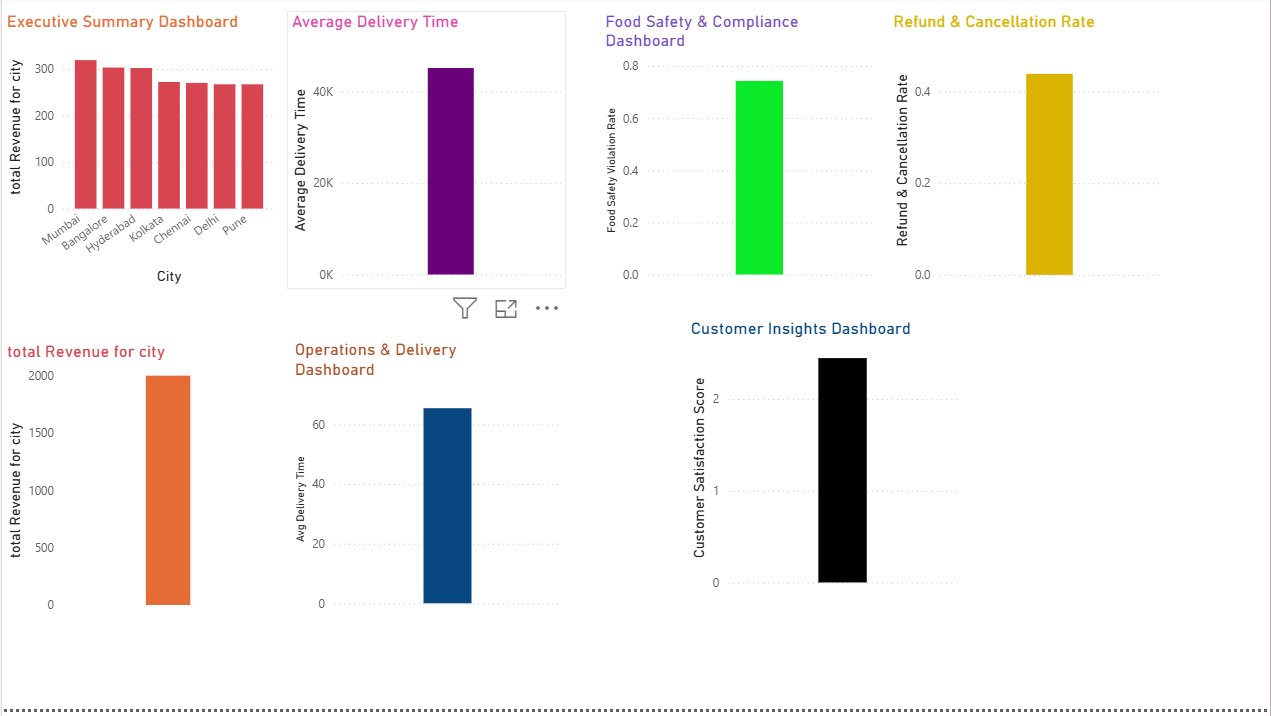

The page's visual inventory and layout, read from the dashboard file:
{"tool":"powerbi","page":{"name":"Page 1","canvas":[1280,720],"ordinal":0},"visuals":[{"type":"clusteredColumnChart","fields":{"Y":["Customers.total Revenue for city"]},"box":[0,348.1,280.1,280.1],"z":0},{"type":"clusteredColumnChart","title":" Executive Summary Dashboard","fields":{"Category":["Customers.City"],"Y":["Customers.total Revenue for city"]},"box":[0,14.6,280.1,280.1],"z":1000},{"type":"clusteredColumnChart","fields":{"Y":["Customers.Average Delivery Time"]},"box":[287.2,15.1,281.6,279.7],"z":2000},{"type":"clusteredColumnChart","title":" Operations & Delivery Dashboard","fields":{"Y":["Customers.Avg Delivery Time"]},"box":[290,347,280,280],"z":3000},{"type":"clusteredColumnChart","title":" Food Safety & Compliance Dashboard","fields":{"Y":["Customers.Food Safety Violation Rate"]},"box":[604.7,15.1,279.7,279.7],"z":4000},{"type":"clusteredColumnChart","title":" Customer Insights Dashboard","fields":{"Y":["Customers.Customer Satisfaction Score"]},"box":[689.8,325.5,280.1,280.1],"z":5000},{"type":"clusteredColumnChart","fields":{"Y":["Customers.Refund & Cancellation Rate"]},"box":[895,15,280,280],"z":6000}]}

Visuals, with their boxes in screenshot pixels (x1, y1, x2, y2), scaled from the page's 1280x720 canvas onto the 1271x716 screenshot:
clusteredColumnChart - Customers.total Revenue for city: x1=0 y1=346 x2=278 y2=625
" Executive Summary Dashboard" clusteredColumnChart: x1=0 y1=15 x2=278 y2=293
clusteredColumnChart - Customers.Average Delivery Time: x1=285 y1=15 x2=565 y2=293
" Operations & Delivery Dashboard" clusteredColumnChart: x1=288 y1=345 x2=566 y2=624
" Food Safety & Compliance Dashboard" clusteredColumnChart: x1=600 y1=15 x2=878 y2=293
" Customer Insights Dashboard" clusteredColumnChart: x1=685 y1=324 x2=963 y2=602
clusteredColumnChart - Customers.Refund & Cancellation Rate: x1=889 y1=15 x2=1167 y2=293
